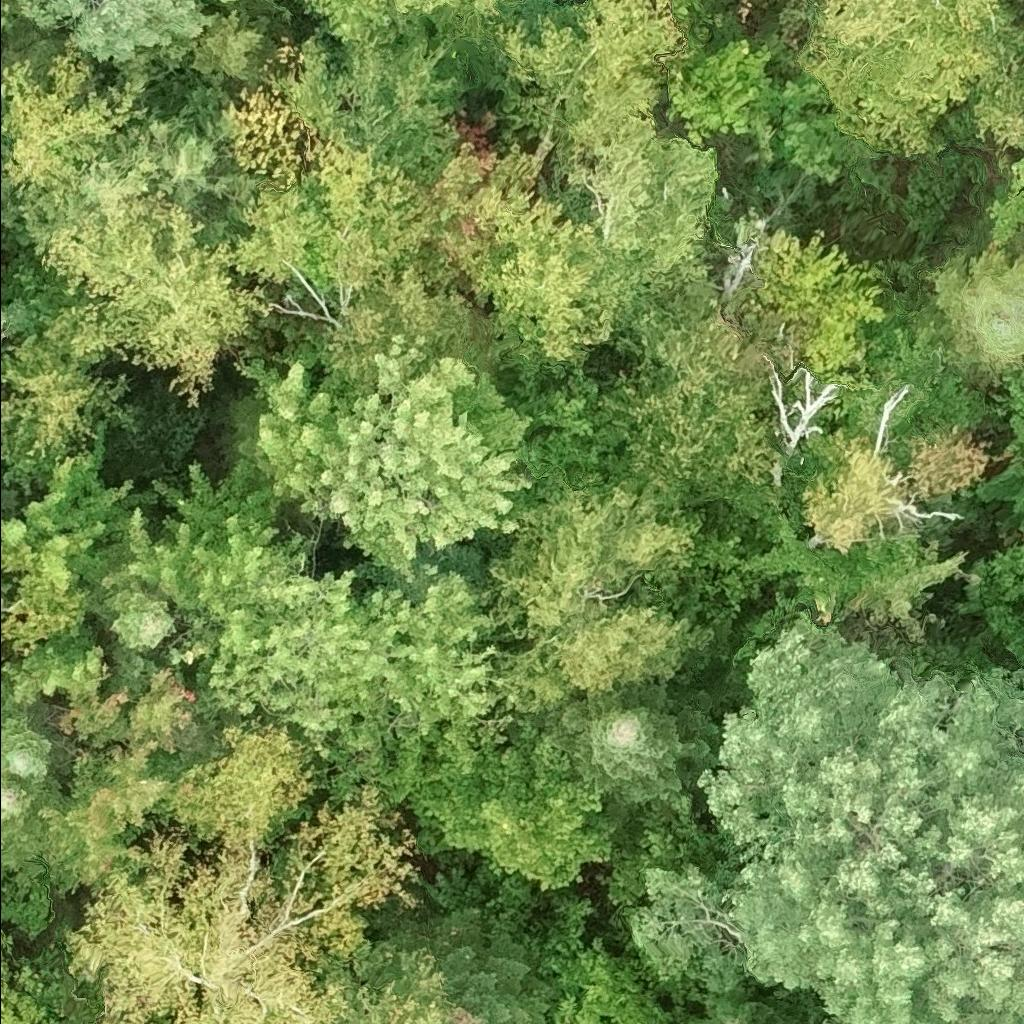crown: (627, 608, 1023, 1023), (62, 714, 425, 1023), (232, 330, 536, 581), (477, 448, 729, 747), (316, 693, 632, 893), (39, 189, 268, 409), (164, 567, 417, 755), (0, 736, 205, 938), (730, 510, 978, 667), (223, 127, 454, 294), (472, 178, 649, 385), (797, 0, 1023, 156), (488, 0, 685, 174), (125, 458, 312, 629), (551, 113, 718, 290), (425, 111, 564, 313), (0, 293, 130, 498), (316, 264, 518, 394), (0, 42, 152, 205), (539, 679, 722, 813), (0, 422, 139, 592), (381, 565, 502, 739), (757, 226, 889, 373), (15, 129, 165, 257), (412, 902, 560, 1023), (661, 35, 785, 165), (924, 226, 1023, 384), (73, 507, 178, 650), (799, 425, 911, 553), (775, 68, 887, 187), (15, 0, 216, 65), (314, 931, 451, 1023), (302, 0, 526, 50), (0, 539, 94, 653), (0, 619, 106, 708), (0, 764, 67, 881), (513, 365, 600, 447), (188, 2, 278, 81), (908, 423, 994, 501), (127, 665, 197, 755), (0, 924, 57, 1023), (0, 677, 53, 782), (684, 979, 802, 1023), (55, 688, 131, 749), (984, 155, 1023, 246), (199, 0, 286, 15), (0, 0, 18, 45), (0, 311, 8, 333)
